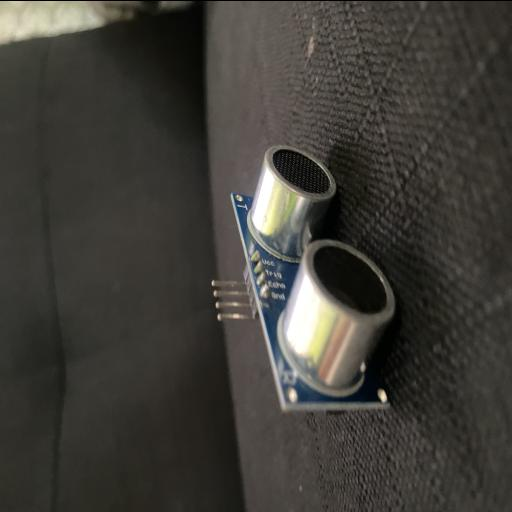Ultrasonic Sensor: (210, 143, 397, 413)
